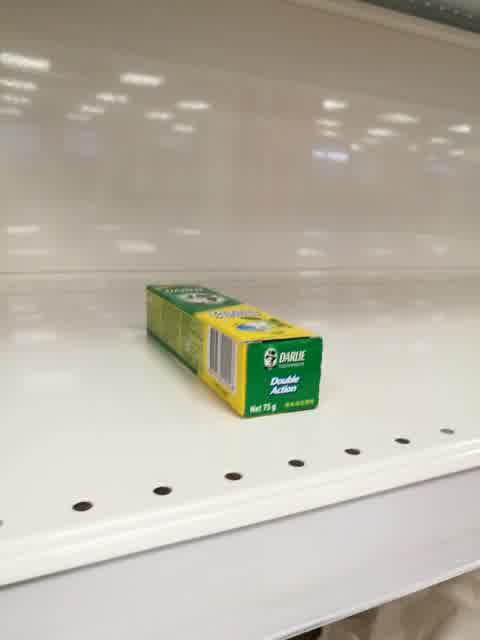toothpaste: (145, 283, 325, 420)
